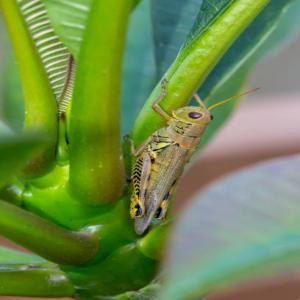locust: (121, 57, 249, 240)
